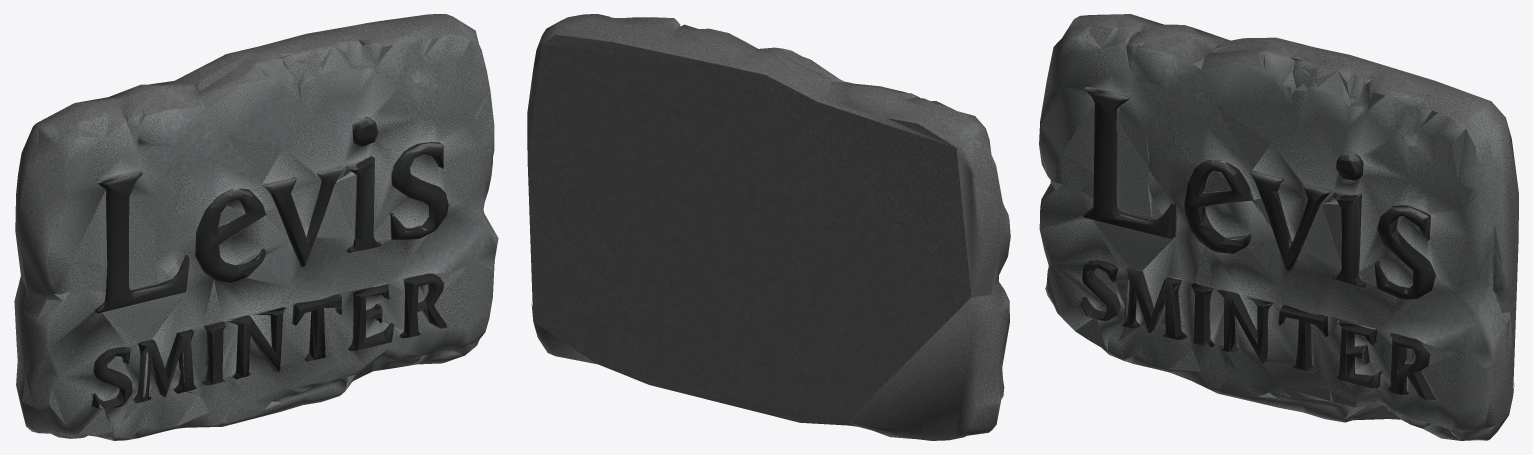
File: modelo.fbx
The picture shows the model from 3 angles, left to right: view 1: azimuth 30°, elevation 25°; view 2: azimuth 150°, elevation 25°; view 3: azimuth 330°, elevation 25°; orthographic projection.
Visible parts, largest first — view 1: Mesh_0; view 2: Mesh_0; view 3: Mesh_0.
Part boxes in pixels (left/top/right/bottom): Mesh_0: left=14, top=14, right=498, bottom=440; Mesh_0: left=527, top=14, right=1010, bottom=440; Mesh_0: left=1039, top=14, right=1518, bottom=440.
Size of the model in its own units: 190 by 139 by 27.82.
1 material, 1 textured.
